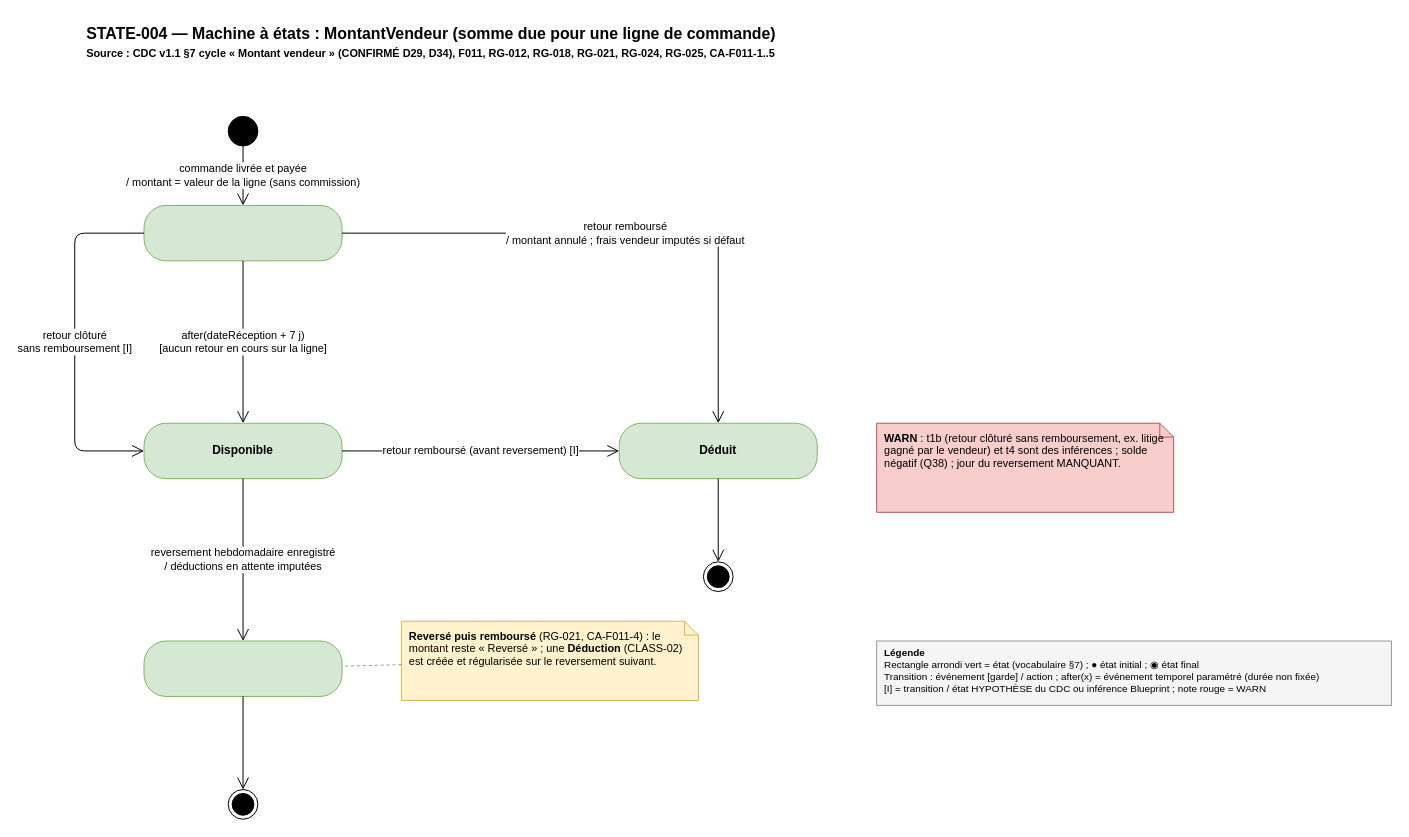
The diagram is 1409 pixels wide and 837 high, and some of its shapes have lost their labels. Here are the shapes that lost their labels. From the top down, the box of each, then its label:
(143, 204, 342, 261): Retenu
(143, 640, 342, 696): Reversé
